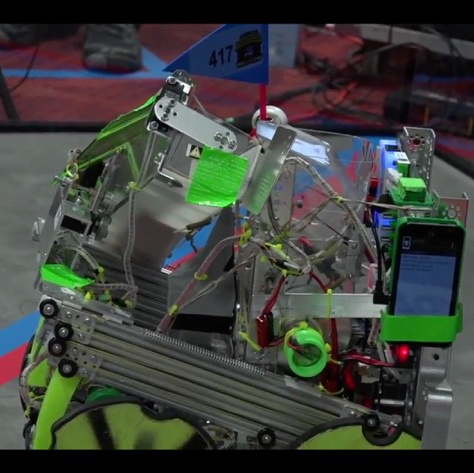robot: (12, 59, 468, 448)
